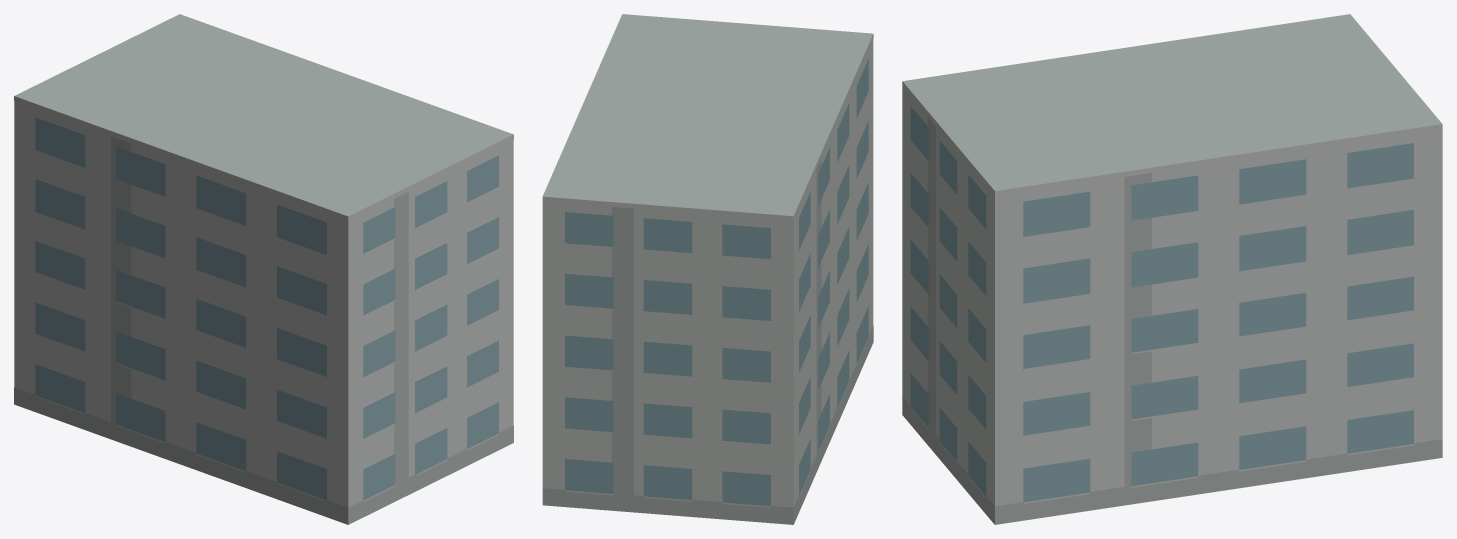
File: residential-7f27b80b-010e-4510-9d0f-40a645e9325e.glb
3 renders of one model, left to right at view 1: azimuth 30°, elevation 25°; view 2: azimuth 150°, elevation 25°; view 3: azimuth 270°, elevation 25°, orthographic. The views are drawn at different scales.
Visible parts, largest first — view 1: residential-7f27b80b-010e-4510-9d0f-40a645e9325e.tmp; view 2: residential-7f27b80b-010e-4510-9d0f-40a645e9325e.tmp; view 3: residential-7f27b80b-010e-4510-9d0f-40a645e9325e.tmp.
Part boxes in pixels (x1,y1,x2,y2): residential-7f27b80b-010e-4510-9d0f-40a645e9325e.tmp: [14, 14, 513, 524]; residential-7f27b80b-010e-4510-9d0f-40a645e9325e.tmp: [542, 14, 873, 524]; residential-7f27b80b-010e-4510-9d0f-40a645e9325e.tmp: [902, 14, 1442, 524].
Size of the model in its own units: 17.37 by 15.25 by 22.38.
